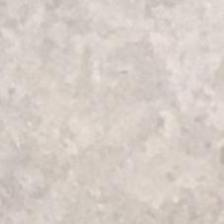Non_Crack: (28, 20, 196, 167)
